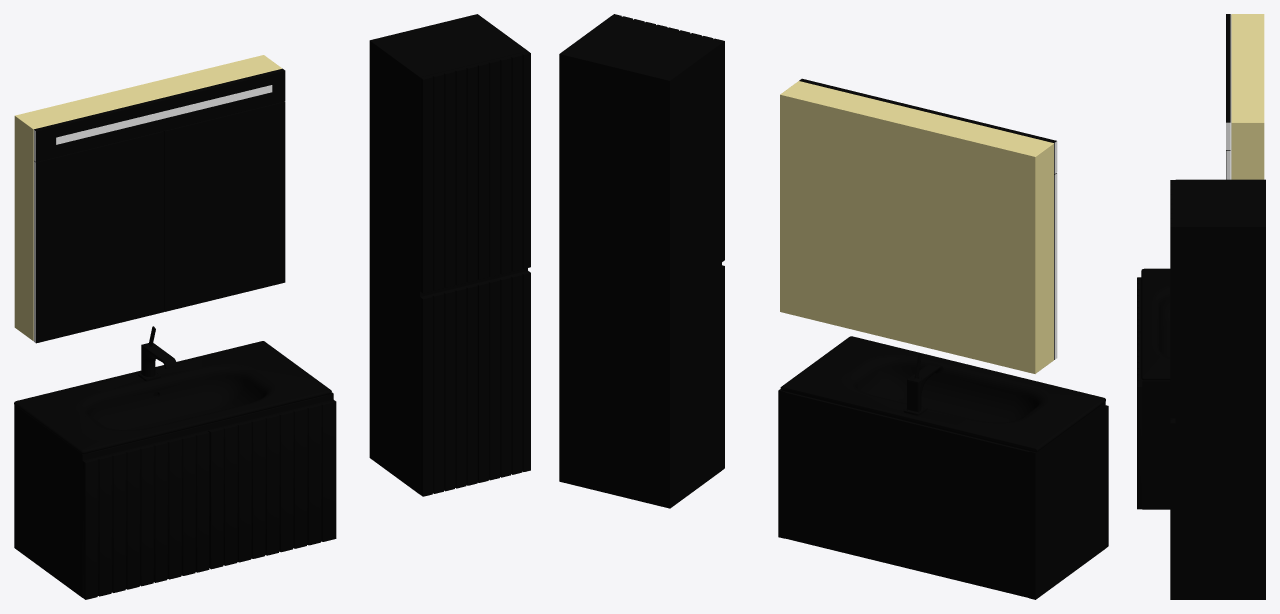
File: DOLCE 100 PLUS.glb
3 renders of one model, left to right at view 1: azimuth 30°, elevation 25°; view 2: azimuth 150°, elevation 25°; view 3: azimuth 270°, elevation 25°, orthographic. The views are drawn at different scales.
Parts seen in each view (by area): view 1: ayna, alt dolap kapak, yan dolap, yan dolap kapak, yan dolap kapak1, lavabo, alt dolap, üst dolap, led, musluk; view 2: yan dolap, üst dolap, alt dolap, lavabo, ayna, yan dolap kapak, musluk, yan metal; view 3: yan dolap, üst dolap, alt dolap, lavabo, yan dolap kapak, alt dolap kapak, yan dolap kapak1, ayna, yan metal.
Boxes of the visible parts, box(x1,y1,x2,y2) form: ayna: box(34, 68, 285, 343); alt dolap kapak: box(82, 399, 336, 599); yan dolap: box(369, 14, 527, 494); yan dolap kapak: box(420, 51, 530, 293); yan dolap kapak1: box(420, 270, 530, 496); lavabo: box(14, 341, 331, 454); alt dolap: box(14, 391, 333, 597); üst dolap: box(14, 55, 281, 340); led: box(56, 85, 272, 144); musluk: box(138, 326, 177, 381); yan dolap: box(559, 16, 721, 508); üst dolap: box(780, 81, 1053, 373); alt dolap: box(778, 389, 1105, 599); lavabo: box(780, 336, 1105, 452); ayna: box(799, 78, 1056, 359); yan dolap kapak: box(612, 14, 724, 261); musluk: box(903, 353, 943, 415); yan metal: box(1054, 141, 1057, 359); yan dolap: box(1175, 179, 1265, 599); üst dolap: box(1231, 14, 1264, 179); alt dolap: box(1142, 380, 1170, 509); lavabo: box(1141, 268, 1170, 380); yan dolap kapak: box(1170, 180, 1175, 418); alt dolap kapak: box(1137, 277, 1142, 509); yan dolap kapak1: box(1170, 418, 1175, 599); ayna: box(1226, 14, 1230, 179); yan metal: box(1226, 122, 1230, 179).
Size of the model in its own units: 1.81 by 1.6 by 0.4848.
